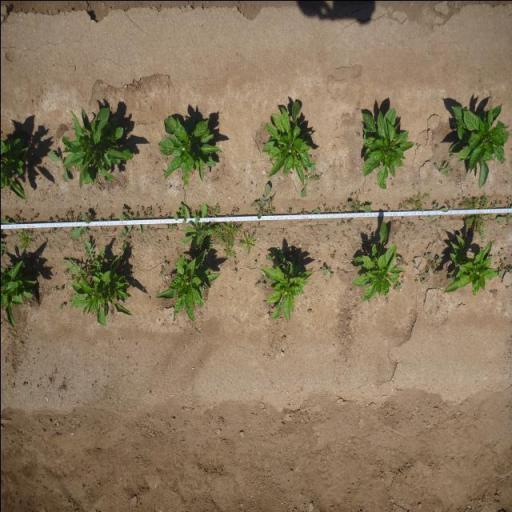plant: (66, 104, 133, 190), (452, 100, 508, 188), (157, 113, 221, 187), (360, 105, 414, 190), (261, 102, 309, 178), (75, 265, 130, 323), (352, 230, 396, 301), (442, 237, 493, 297), (264, 261, 314, 322), (166, 250, 207, 321), (0, 258, 38, 326), (0, 135, 30, 201)
weed: (463, 192, 492, 239), (63, 239, 104, 271), (180, 204, 211, 246), (206, 202, 224, 248), (252, 182, 276, 216), (300, 164, 321, 198), (49, 149, 66, 188), (72, 210, 90, 238), (224, 221, 242, 247), (407, 190, 430, 210), (423, 252, 442, 276), (238, 231, 255, 255), (16, 228, 35, 249), (428, 200, 446, 218), (267, 246, 284, 265), (347, 199, 371, 212), (433, 160, 451, 177), (497, 204, 512, 222), (120, 226, 130, 250), (296, 204, 320, 214), (118, 204, 132, 220), (140, 204, 154, 219), (497, 258, 512, 272), (0, 214, 23, 223), (174, 202, 184, 222), (63, 208, 75, 222), (222, 247, 236, 258), (228, 205, 239, 216), (202, 285, 208, 303), (396, 256, 406, 266), (253, 280, 265, 288), (400, 200, 409, 210), (166, 222, 177, 230), (156, 212, 170, 218), (319, 265, 327, 275), (322, 206, 332, 214), (54, 214, 63, 222), (106, 211, 114, 220), (394, 282, 402, 291), (52, 285, 62, 292), (156, 202, 162, 213), (328, 265, 333, 278), (329, 250, 335, 260), (365, 222, 371, 232), (446, 200, 452, 210), (57, 303, 65, 310), (286, 206, 292, 214), (62, 268, 68, 275), (434, 284, 441, 290), (32, 212, 38, 219), (497, 269, 502, 277), (406, 221, 414, 226), (162, 260, 168, 266), (346, 218, 352, 224), (446, 276, 452, 282), (56, 226, 62, 232), (133, 211, 138, 218), (49, 227, 54, 234), (340, 217, 344, 225), (448, 154, 454, 159), (413, 278, 418, 284), (419, 279, 426, 283), (256, 221, 260, 228), (411, 259, 416, 264), (355, 131, 360, 136), (158, 271, 162, 277), (336, 206, 340, 212), (386, 206, 390, 212), (264, 275, 268, 280), (349, 192, 353, 197), (104, 228, 107, 234), (233, 268, 236, 274), (46, 218, 50, 222), (433, 144, 438, 147), (254, 259, 256, 266), (497, 252, 500, 256), (500, 248, 504, 251), (336, 268, 338, 273), (344, 253, 346, 258)
